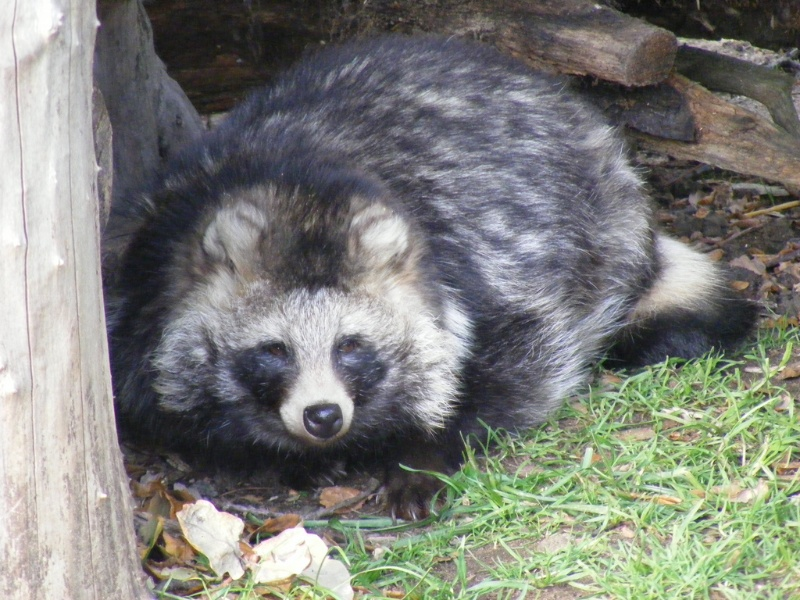raccoon: (101, 39, 765, 529)
